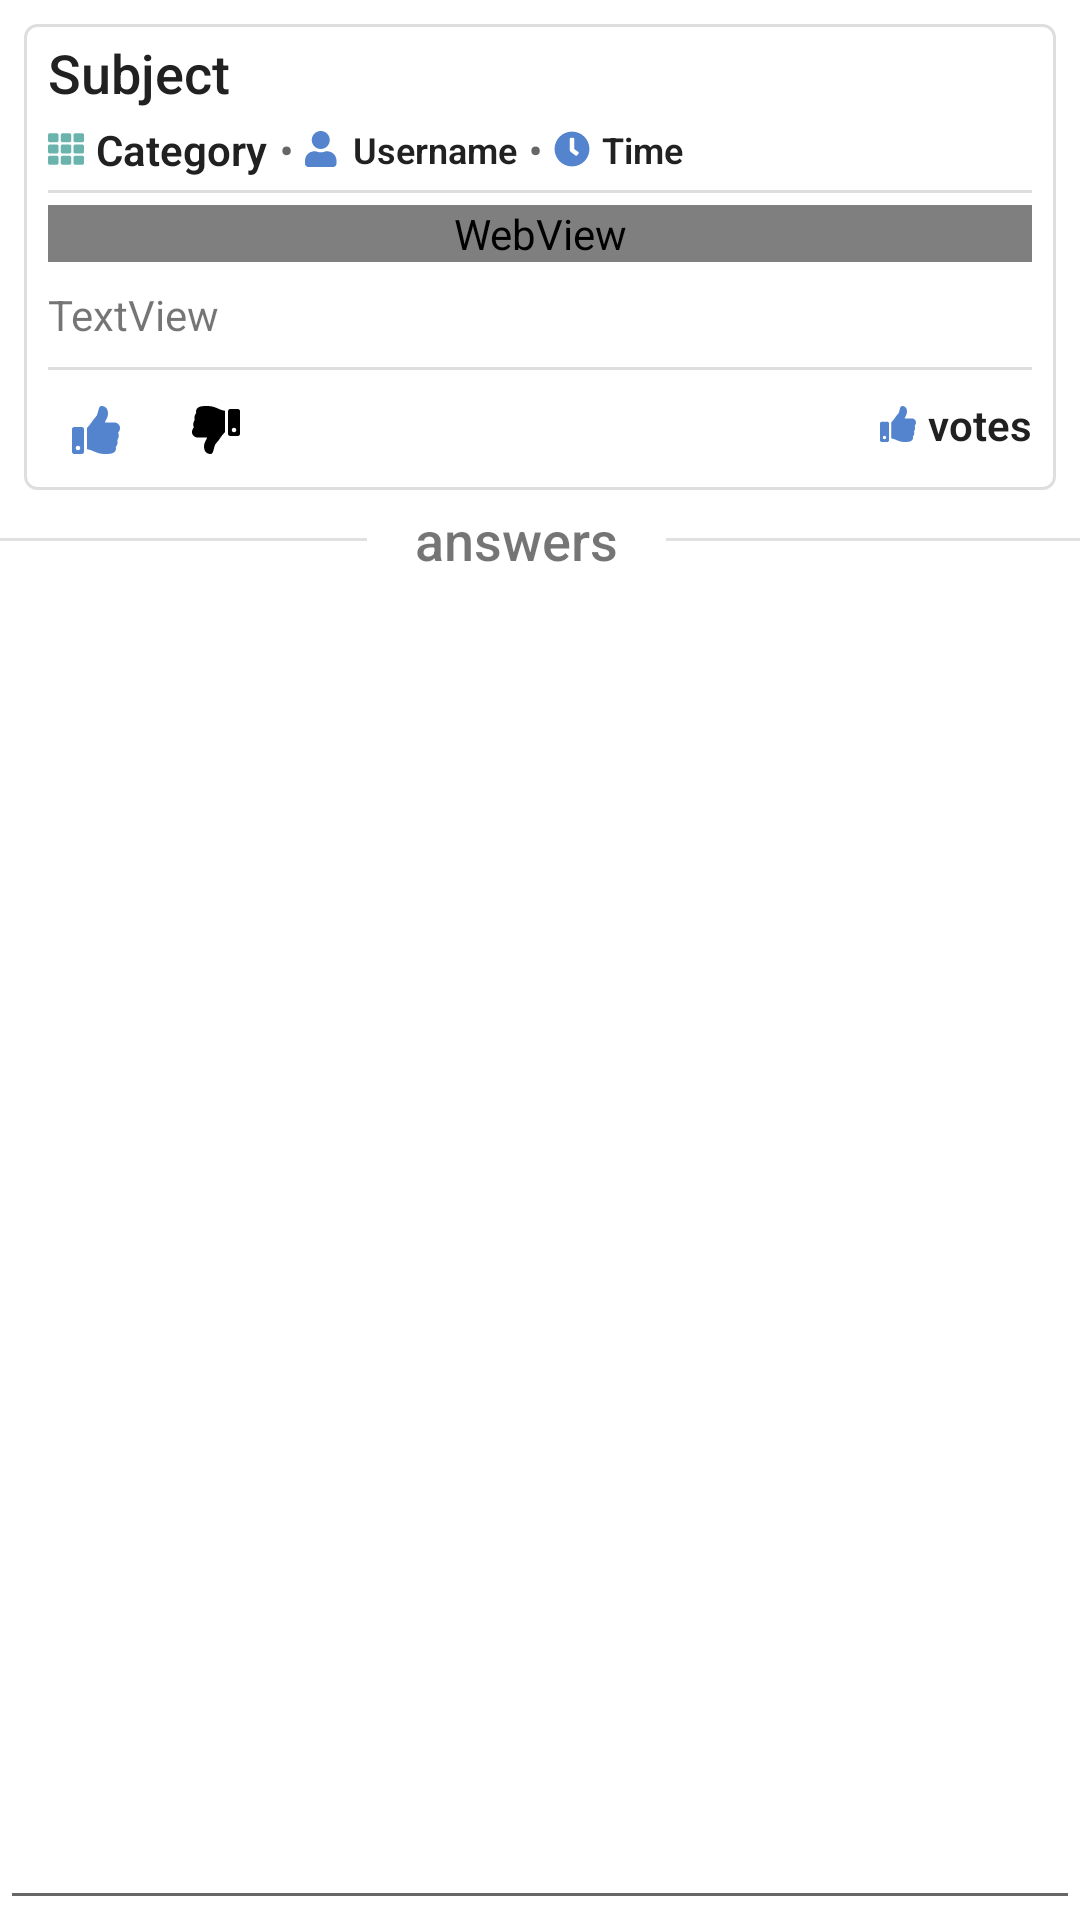

Where to tap for icons on this 1080*1920 app screen, as (x,y):
thumbs up: (96,430)
